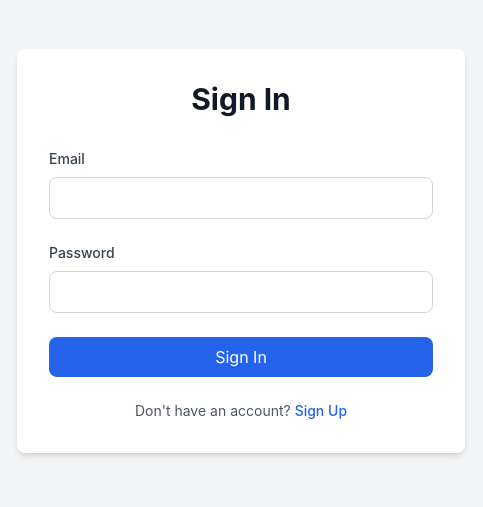
Test case: Authentication Flow › should show error for invalid credentials
This screenshot has width=483, height=507.
Type "wrong@example.com" into the field named "email".
click(241, 198); type("wrong@example.com")  # box [49,177,433,219]
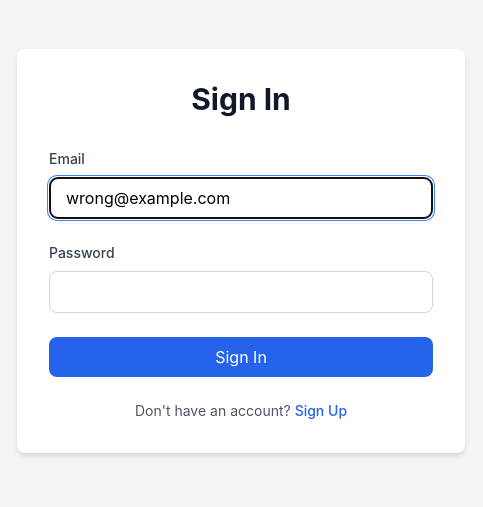
Type "wrongpassword" into the password field named "password".
click(241, 292); type("wrongpassword")  # box [49,271,433,313]
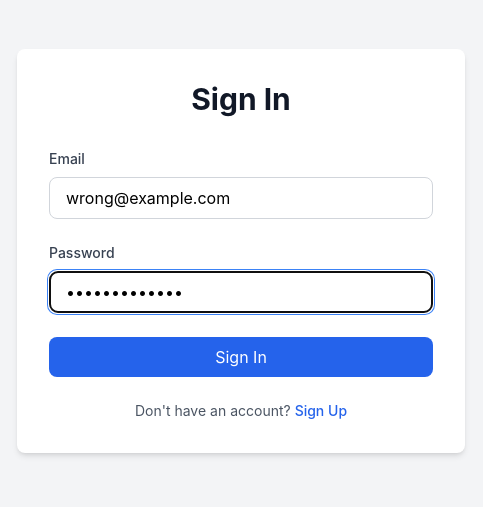
Click the submit button.
click(241, 357)  # box [49,337,433,377]
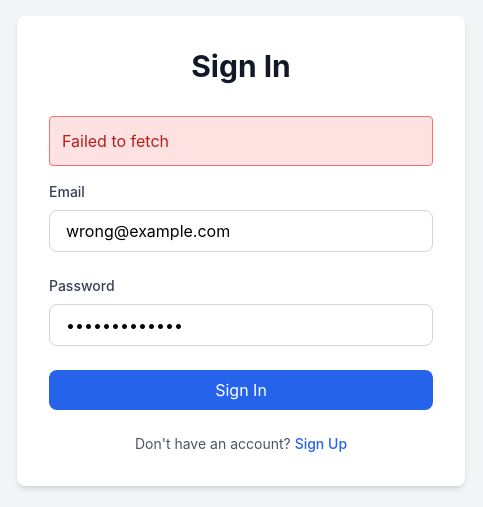
Result: the text "Failed to fetch" is shown at [49,116,433,166]
